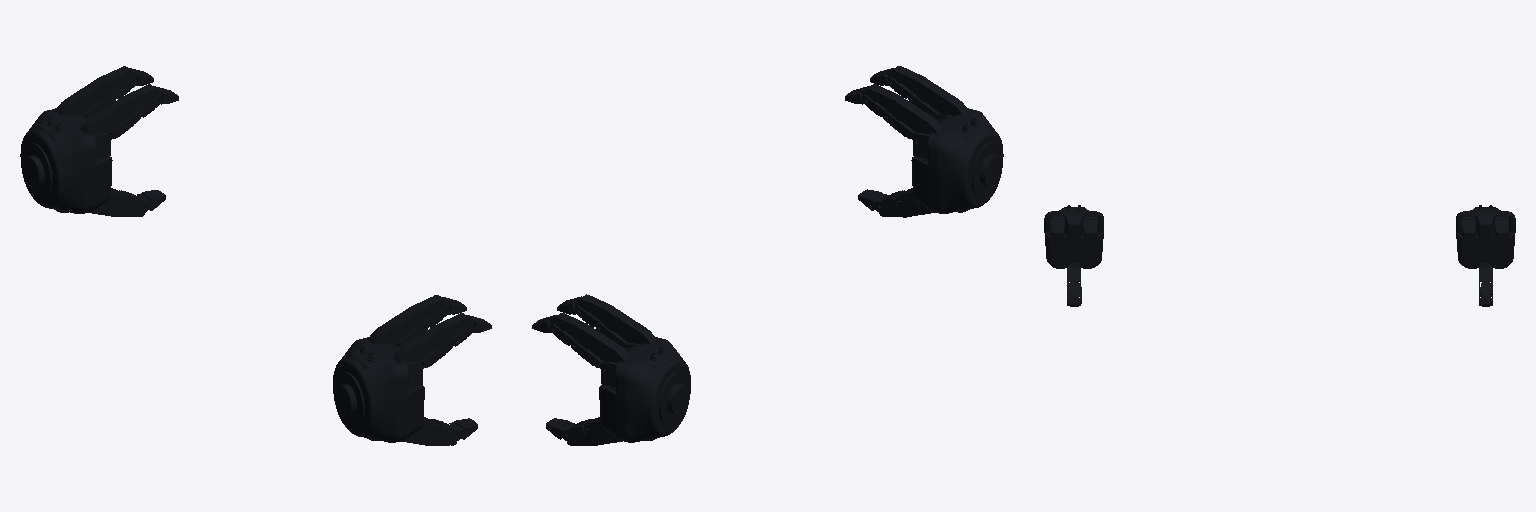
robot.urdf — fanuc_lrmate200id7l_dual:
<?xml version="1.0"?>
<!--
  Dual FANUC LR Mate 200iD/7L articulation for SPARK.

  Each arm is the ROS-Industrial-derived chain from lrmate200id7l.urdf. The
  fixed base transforms match lrmate200id_dual.xml. See README.md and
  LICENSE.ros_industrial_fanuc for provenance and license.
-->
<robot name="fanuc_lrmate200id7l_dual">
  <material name="fanuc_gray28">
    <color rgba="0.28 0.28 0.28 1"/>
  </material>
  <material name="fanuc_yellow">
    <color rgba="0.96 0.76 0.13 1"/>
  </material>
  <material name="fanuc_black">
    <color rgba="0.15 0.15 0.15 1"/>
  </material>
  <material name="spark_gripper_black"><color rgba="0.12 0.13 0.15 1"/></material>

  <link name="world"/>

  <link name="right_base_link">
    <visual>
      <geometry><mesh filename="./meshes/lrmate200id/base_link.stl"/></geometry>
      <material name="fanuc_gray28"/>
    </visual>
    <collision>
      <geometry><mesh filename="./meshes/lrmate200id/base_link.stl"/></geometry>
    </collision>
  </link>
  <joint name="world_to_right_base_link" type="fixed">
    <origin xyz="0 -0.45 0" rpy="0 0 0"/>
    <parent link="world"/>
    <child link="right_base_link"/>
  </joint>

  <link name="right_link_1">
    <visual>
      <geometry><mesh filename="./meshes/lrmate200id/link_1.stl"/></geometry>
      <material name="fanuc_yellow"/>
    </visual>
    <collision>
      <geometry><mesh filename="./meshes/lrmate200id/link_1.stl"/></geometry>
    </collision>
  </link>
  <joint name="right_joint_1" type="revolute">
    <origin xyz="0 0 0.330" rpy="0 0 0"/>
    <parent link="right_base_link"/>
    <child link="right_link_1"/>
    <axis xyz="0 0 1"/>
    <limit effort="500" lower="-3.141592654" upper="3.141592654" velocity="6.457718232"/>
    <dynamics damping="5.0"/>
  </joint>

  <link name="right_link_2">
    <visual>
      <geometry><mesh filename="./meshes/lrmate200id/link_2.stl"/></geometry>
      <material name="fanuc_yellow"/>
    </visual>
    <collision>
      <geometry><mesh filename="./meshes/lrmate200id/link_2.stl"/></geometry>
    </collision>
  </link>
  <joint name="right_joint_2" type="revolute">
    <origin xyz="0.050 0 0" rpy="0 0 0"/>
    <parent link="right_link_1"/>
    <child link="right_link_2"/>
    <axis xyz="0 1 0"/>
    <limit effort="500" lower="-2.138028334" upper="2.138028334" velocity="5.410520681"/>
    <dynamics damping="5.0"/>
  </joint>

  <link name="right_link_3">
    <visual>
      <geometry><mesh filename="./meshes/lrmate200id/link_3.stl"/></geometry>
      <material name="fanuc_yellow"/>
    </visual>
    <collision>
      <geometry><mesh filename="./meshes/lrmate200id/link_3.stl"/></geometry>
    </collision>
  </link>
  <joint name="right_joint_3" type="revolute">
    <origin xyz="0 0 0.440" rpy="0 0 0"/>
    <parent link="right_link_2"/>
    <child link="right_link_3"/>
    <axis xyz="0 -1 0"/>
    <limit effort="80" lower="-3.752457892" upper="3.752457892" velocity="7.155849934"/>
    <dynamics damping="3.0"/>
  </joint>

  <link name="right_link_4">
    <visual>
      <geometry><mesh filename="./meshes/lrmate200id/link_4.stl"/></geometry>
      <material name="fanuc_yellow"/>
    </visual>
    <collision>
      <geometry><mesh filename="./meshes/lrmate200id/link_4.stl"/></geometry>
    </collision>
  </link>
  <joint name="right_joint_4" type="revolute">
    <origin xyz="0 0 0.035" rpy="0 0 0"/>
    <parent link="right_link_3"/>
    <child link="right_link_4"/>
    <axis xyz="-1 0 0"/>
    <limit effort="40" lower="-3.316125579" upper="3.316125579" velocity="9.599310885"/>
    <dynamics damping="2.0"/>
  </joint>

  <link name="right_link_5">
    <visual>
      <geometry><mesh filename="./meshes/lrmate200id/link_5.stl"/></geometry>
      <material name="fanuc_yellow"/>
    </visual>
    <collision>
      <geometry><mesh filename="./meshes/lrmate200id/link_5.stl"/></geometry>
    </collision>
  </link>
  <joint name="right_joint_5" type="revolute">
    <origin xyz="0.420 0 0" rpy="0 0 0"/>
    <parent link="right_link_4"/>
    <child link="right_link_5"/>
    <axis xyz="0 -1 0"/>
    <limit effort="30" lower="-2.181661565" upper="2.181661565" velocity="9.512536902"/>
    <dynamics damping="1.5"/>
  </joint>

  <link name="right_link_6">
    <visual>
      <geometry><mesh filename="./meshes/lrmate200id/link_6.stl"/></geometry>
      <material name="fanuc_black"/>
    </visual>
    <collision>
      <geometry><mesh filename="./meshes/lrmate200id/link_6.stl"/></geometry>
    </collision>
  </link>
  <joint name="right_joint_6" type="revolute">
    <origin xyz="0.080 0 0" rpy="0 0 0"/>
    <parent link="right_link_5"/>
    <child link="right_link_6"/>
    <axis xyz="-1 0 0"/>
    <limit effort="20" lower="-6.283185307" upper="6.283185307" velocity="17.453292520"/>
    <dynamics damping="1.0"/>
  </joint>

  <link name="right_flange"/>
  <joint name="right_link_6_to_flange" type="fixed">
    <parent link="right_link_6"/>
    <child link="right_flange"/>
  </joint>
  <link name="right_tool0"/>
  <joint name="right_flange_to_tool0" type="fixed">
    <origin xyz="0 0 0" rpy="3.141592654 -1.570796327 0"/>
    <parent link="right_flange"/>
    <child link="right_tool0"/>
  </joint>

  <link name="left_base_link">
    <visual>
      <geometry><mesh filename="./meshes/lrmate200id/base_link.stl"/></geometry>
      <material name="fanuc_gray28"/>
    </visual>
    <collision>
      <geometry><mesh filename="./meshes/lrmate200id/base_link.stl"/></geometry>
    </collision>
  </link>
  <joint name="world_to_left_base_link" type="fixed">
    <origin xyz="0 0.45 0" rpy="0 0 0"/>
    <parent link="world"/>
    <child link="left_base_link"/>
  </joint>

  <link name="left_link_1">
    <visual>
      <geometry><mesh filename="./meshes/lrmate200id/link_1.stl"/></geometry>
      <material name="fanuc_yellow"/>
    </visual>
    <collision>
      <geometry><mesh filename="./meshes/lrmate200id/link_1.stl"/></geometry>
    </collision>
  </link>
  <joint name="left_joint_1" type="revolute">
    <origin xyz="0 0 0.330" rpy="0 0 0"/>
    <parent link="left_base_link"/>
    <child link="left_link_1"/>
    <axis xyz="0 0 1"/>
    <limit effort="500" lower="-3.141592654" upper="3.141592654" velocity="6.457718232"/>
    <dynamics damping="5.0"/>
  </joint>

  <link name="left_link_2">
    <visual>
      <geometry><mesh filename="./meshes/lrmate200id/link_2.stl"/></geometry>
      <material name="fanuc_yellow"/>
    </visual>
    <collision>
      <geometry><mesh filename="./meshes/lrmate200id/link_2.stl"/></geometry>
    </collision>
  </link>
  <joint name="left_joint_2" type="revolute">
    <origin xyz="0.050 0 0" rpy="0 0 0"/>
    <parent link="left_link_1"/>
    <child link="left_link_2"/>
    <axis xyz="0 1 0"/>
    <limit effort="500" lower="-2.138028334" upper="2.138028334" velocity="5.410520681"/>
    <dynamics damping="5.0"/>
  </joint>

  <link name="left_link_3">
    <visual>
      <geometry><mesh filename="./meshes/lrmate200id/link_3.stl"/></geometry>
      <material name="fanuc_yellow"/>
    </visual>
    <collision>
      <geometry><mesh filename="./meshes/lrmate200id/link_3.stl"/></geometry>
    </collision>
  </link>
  <joint name="left_joint_3" type="revolute">
    <origin xyz="0 0 0.440" rpy="0 0 0"/>
    <parent link="left_link_2"/>
    <child link="left_link_3"/>
    <axis xyz="0 -1 0"/>
    <limit effort="80" lower="-3.752457892" upper="3.752457892" velocity="7.155849934"/>
    <dynamics damping="3.0"/>
  </joint>

  <link name="left_link_4">
    <visual>
      <geometry><mesh filename="./meshes/lrmate200id/link_4.stl"/></geometry>
      <material name="fanuc_yellow"/>
    </visual>
    <collision>
      <geometry><mesh filename="./meshes/lrmate200id/link_4.stl"/></geometry>
    </collision>
  </link>
  <joint name="left_joint_4" type="revolute">
    <origin xyz="0 0 0.035" rpy="0 0 0"/>
    <parent link="left_link_3"/>
    <child link="left_link_4"/>
    <axis xyz="-1 0 0"/>
    <limit effort="40" lower="-3.316125579" upper="3.316125579" velocity="9.599310885"/>
    <dynamics damping="2.0"/>
  </joint>

  <link name="left_link_5">
    <visual>
      <geometry><mesh filename="./meshes/lrmate200id/link_5.stl"/></geometry>
      <material name="fanuc_yellow"/>
    </visual>
    <collision>
      <geometry><mesh filename="./meshes/lrmate200id/link_5.stl"/></geometry>
    </collision>
  </link>
  <joint name="left_joint_5" type="revolute">
    <origin xyz="0.420 0 0" rpy="0 0 0"/>
    <parent link="left_link_4"/>
    <child link="left_link_5"/>
    <axis xyz="0 -1 0"/>
    <limit effort="30" lower="-2.181661565" upper="2.181661565" velocity="9.512536902"/>
    <dynamics damping="1.5"/>
  </joint>

  <link name="left_link_6">
    <visual>
      <geometry><mesh filename="./meshes/lrmate200id/link_6.stl"/></geometry>
      <material name="fanuc_black"/>
    </visual>
    <collision>
      <geometry><mesh filename="./meshes/lrmate200id/link_6.stl"/></geometry>
    </collision>
  </link>
  <joint name="left_joint_6" type="revolute">
    <origin xyz="0.080 0 0" rpy="0 0 0"/>
    <parent link="left_link_5"/>
    <child link="left_link_6"/>
    <axis xyz="-1 0 0"/>
    <limit effort="20" lower="-6.283185307" upper="6.283185307" velocity="17.453292520"/>
    <dynamics damping="1.0"/>
  </joint>

  <link name="left_flange"/>
  <joint name="left_link_6_to_flange" type="fixed">
    <parent link="left_link_6"/>
    <child link="left_flange"/>
  </joint>
  <link name="left_tool0"/>
  <joint name="left_flange_to_tool0" type="fixed">
    <origin xyz="0 0 0" rpy="3.141592654 -1.570796327 0"/>
    <parent link="left_flange"/>
    <child link="left_tool0"/>
  </joint>
  <!-- Static open-pose Robotiq 3F visuals for backend rendering parity. -->
  <link name="right_spark_robotiq_3f_visual">
    <inertial><origin xyz="0 0 0"/><mass value="0.001"/><inertia ixx="0.000001" ixy="0" ixz="0" iyy="0.000001" iyz="0" izz="0.000001"/></inertial>
    <visual><origin xyz="0.06885 0 0" rpy="1.57079633 1.57079633 0"/><geometry><mesh filename="./meshes/robotiq_3f/palm_vis.stl"/></geometry><material name="spark_gripper_black"/></visual>
    <visual><origin xyz="0.11035 0 -0.0455" rpy="1.57079633 0 0"/><geometry><mesh filename="./meshes/robotiq_3f/link_0_vis.stl"/></geometry><material name="spark_gripper_black"/></visual>
    <visual><origin xyz="0.16035 0 -0.0735" rpy="1.57079633 0.471240098 0"/><geometry><mesh filename="./meshes/robotiq_3f/link_1_vis.stl"/></geometry><material name="spark_gripper_black"/></visual>
    <visual><origin xyz="0.195099233 -0.0075 -0.0912056712" rpy="1.57079633 0.471240098 0"/><geometry><mesh filename="./meshes/robotiq_3f/link_2_vis.stl"/></geometry><material name="spark_gripper_black"/></visual>
    <visual><origin xyz="0.195099233 0 -0.0912056712" rpy="1.57079633 0 0"/><geometry><mesh filename="./meshes/robotiq_3f/link_3_vis.stl"/></geometry><material name="spark_gripper_black"/></visual>
    <visual><origin xyz="0.11185 0.036 0.045" rpy="-1.57079633 0 0"/><geometry><mesh filename="./meshes/robotiq_3f/link_0_vis.stl"/></geometry><material name="spark_gripper_black"/></visual>
    <visual><origin xyz="0.16185 0.036 0.073" rpy="-1.57079633 -0.471240098 0"/><geometry><mesh filename="./meshes/robotiq_3f/link_1_vis.stl"/></geometry><material name="spark_gripper_black"/></visual>
    <visual><origin xyz="0.196599233 0.0435 0.0907056712" rpy="-1.57079633 -0.471240098 0"/><geometry><mesh filename="./meshes/robotiq_3f/link_2_vis.stl"/></geometry><material name="spark_gripper_black"/></visual>
    <visual><origin xyz="0.196599233 0.036 0.0907056712" rpy="-1.57079633 0 0"/><geometry><mesh filename="./meshes/robotiq_3f/link_3_vis.stl"/></geometry><material name="spark_gripper_black"/></visual>
    <visual><origin xyz="0.11185 -0.036 0.045" rpy="-1.57079633 0 0"/><geometry><mesh filename="./meshes/robotiq_3f/link_0_vis.stl"/></geometry><material name="spark_gripper_black"/></visual>
    <visual><origin xyz="0.16185 -0.036 0.073" rpy="-1.57079633 -0.471240098 0"/><geometry><mesh filename="./meshes/robotiq_3f/link_1_vis.stl"/></geometry><material name="spark_gripper_black"/></visual>
    <visual><origin xyz="0.196599233 -0.0285 0.0907056712" rpy="-1.57079633 -0.471240098 0"/><geometry><mesh filename="./meshes/robotiq_3f/link_2_vis.stl"/></geometry><material name="spark_gripper_black"/></visual>
    <visual><origin xyz="0.196599233 -0.036 0.0907056712" rpy="-1.57079633 0 0"/><geometry><mesh filename="./meshes/robotiq_3f/link_3_vis.stl"/></geometry><material name="spark_gripper_black"/></visual>
  </link>
  <joint name="right_spark_robotiq_3f_mount" type="fixed"><parent link="right_link_6"/><child link="right_spark_robotiq_3f_visual"/></joint>
  <link name="left_spark_robotiq_3f_visual">
    <inertial><origin xyz="0 0 0"/><mass value="0.001"/><inertia ixx="0.000001" ixy="0" ixz="0" iyy="0.000001" iyz="0" izz="0.000001"/></inertial>
    <visual><origin xyz="0.06885 0 0" rpy="1.57079633 1.57079633 0"/><geometry><mesh filename="./meshes/robotiq_3f/palm_vis.stl"/></geometry><material name="spark_gripper_black"/></visual>
    <visual><origin xyz="0.11035 0 -0.0455" rpy="1.57079633 0 0"/><geometry><mesh filename="./meshes/robotiq_3f/link_0_vis.stl"/></geometry><material name="spark_gripper_black"/></visual>
    <visual><origin xyz="0.16035 0 -0.0735" rpy="1.57079633 0.471240098 0"/><geometry><mesh filename="./meshes/robotiq_3f/link_1_vis.stl"/></geometry><material name="spark_gripper_black"/></visual>
    <visual><origin xyz="0.195099233 -0.0075 -0.0912056712" rpy="1.57079633 0.471240098 0"/><geometry><mesh filename="./meshes/robotiq_3f/link_2_vis.stl"/></geometry><material name="spark_gripper_black"/></visual>
    <visual><origin xyz="0.195099233 0 -0.0912056712" rpy="1.57079633 0 0"/><geometry><mesh filename="./meshes/robotiq_3f/link_3_vis.stl"/></geometry><material name="spark_gripper_black"/></visual>
    <visual><origin xyz="0.11185 0.036 0.045" rpy="-1.57079633 0 0"/><geometry><mesh filename="./meshes/robotiq_3f/link_0_vis.stl"/></geometry><material name="spark_gripper_black"/></visual>
    <visual><origin xyz="0.16185 0.036 0.073" rpy="-1.57079633 -0.471240098 0"/><geometry><mesh filename="./meshes/robotiq_3f/link_1_vis.stl"/></geometry><material name="spark_gripper_black"/></visual>
    <visual><origin xyz="0.196599233 0.0435 0.0907056712" rpy="-1.57079633 -0.471240098 0"/><geometry><mesh filename="./meshes/robotiq_3f/link_2_vis.stl"/></geometry><material name="spark_gripper_black"/></visual>
    <visual><origin xyz="0.196599233 0.036 0.0907056712" rpy="-1.57079633 0 0"/><geometry><mesh filename="./meshes/robotiq_3f/link_3_vis.stl"/></geometry><material name="spark_gripper_black"/></visual>
    <visual><origin xyz="0.11185 -0.036 0.045" rpy="-1.57079633 0 0"/><geometry><mesh filename="./meshes/robotiq_3f/link_0_vis.stl"/></geometry><material name="spark_gripper_black"/></visual>
    <visual><origin xyz="0.16185 -0.036 0.073" rpy="-1.57079633 -0.471240098 0"/><geometry><mesh filename="./meshes/robotiq_3f/link_1_vis.stl"/></geometry><material name="spark_gripper_black"/></visual>
    <visual><origin xyz="0.196599233 -0.0285 0.0907056712" rpy="-1.57079633 -0.471240098 0"/><geometry><mesh filename="./meshes/robotiq_3f/link_2_vis.stl"/></geometry><material name="spark_gripper_black"/></visual>
    <visual><origin xyz="0.196599233 -0.036 0.0907056712" rpy="-1.57079633 0 0"/><geometry><mesh filename="./meshes/robotiq_3f/link_3_vis.stl"/></geometry><material name="spark_gripper_black"/></visual>
  </link>
  <joint name="left_spark_robotiq_3f_mount" type="fixed"><parent link="left_link_6"/><child link="left_spark_robotiq_3f_visual"/></joint>
</robot>

--- Facts derived from the render (not from the file) ---
3 views of the same robot in one strip: view 1: azimuth 30°, elevation 25°; view 2: azimuth 150°, elevation 25°; view 3: azimuth 270°, elevation 25° (orthographic).
Robot: fanuc_lrmate200id7l_dual — 21 links, 20 joints (12 revolute, 8 fixed); root link world; default pose: every joint at zero.
Visible links, largest first — view 1: left_spark_robotiq_3f_visual, right_spark_robotiq_3f_visual; view 2: left_spark_robotiq_3f_visual, right_spark_robotiq_3f_visual; view 3: right_spark_robotiq_3f_visual, left_spark_robotiq_3f_visual.
Boxes of the visible links, x1,y1,x2,y2 form: left_spark_robotiq_3f_visual: (20,66,178,216); right_spark_robotiq_3f_visual: (333,295,491,445); left_spark_robotiq_3f_visual: (532,294,690,445); right_spark_robotiq_3f_visual: (845,66,1003,217); right_spark_robotiq_3f_visual: (1044,205,1103,306); left_spark_robotiq_3f_visual: (1456,205,1515,306).
Bounding box of the posed robot: 0.2198 × 1.03 × 0.2174 m (x, y, z).
26 mesh visuals loaded from 12 distinct referenced files (5 binary STL); not drawn: 14 (reference not matched to a file when rendering).
